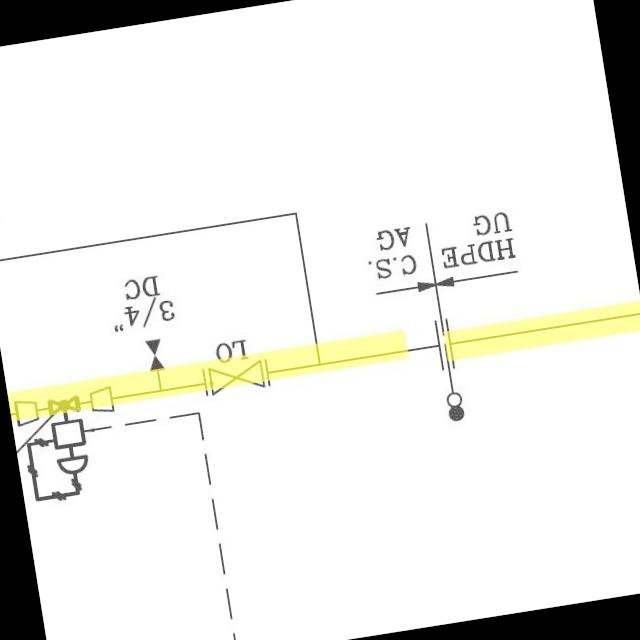CBV: (18, 392, 104, 510)
GV: (204, 352, 270, 400)
SP: (85, 381, 122, 416), (9, 396, 47, 430)
